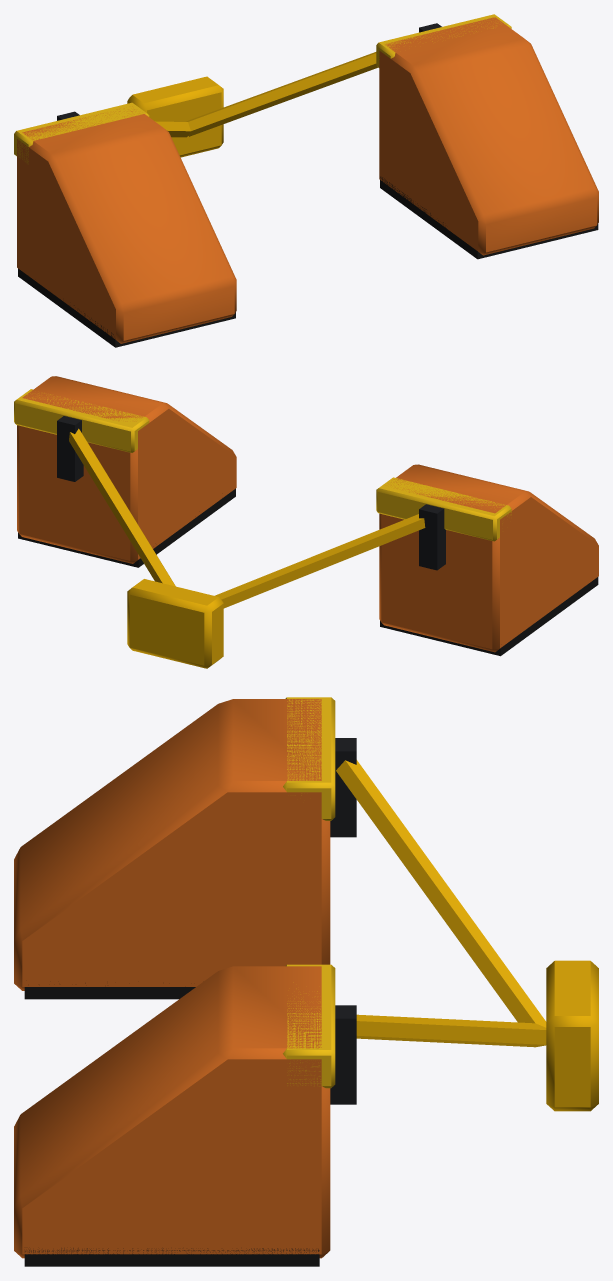
The model's file is hangartool_wheel_chocks.glb.
The picture shows the model from 3 angles, top to bottom: view 1: azimuth 30°, elevation 25°; view 2: azimuth 150°, elevation 25°; view 3: azimuth 270°, elevation 25°; orthographic projection. The views are drawn at different scales.
Visible parts, largest first — view 1: hangartool_wheel_chocks; view 2: hangartool_wheel_chocks; view 3: hangartool_wheel_chocks.
Part boxes in pixels (box(x1,y1,x2,y2)): hangartool_wheel_chocks: box(14, 14, 598, 347); hangartool_wheel_chocks: box(14, 376, 598, 668); hangartool_wheel_chocks: box(14, 697, 598, 1266).
Size of the model in its own units: 0.8 by 0.225 by 0.555.
